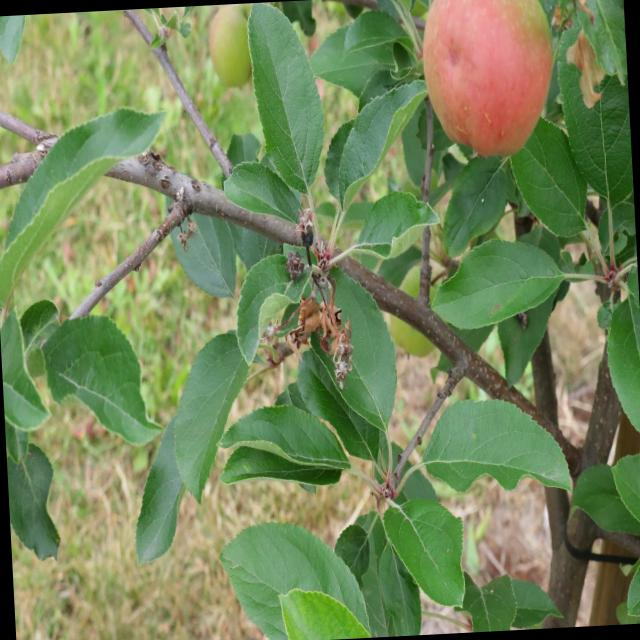-FireBlight-: (290, 261, 350, 405)
